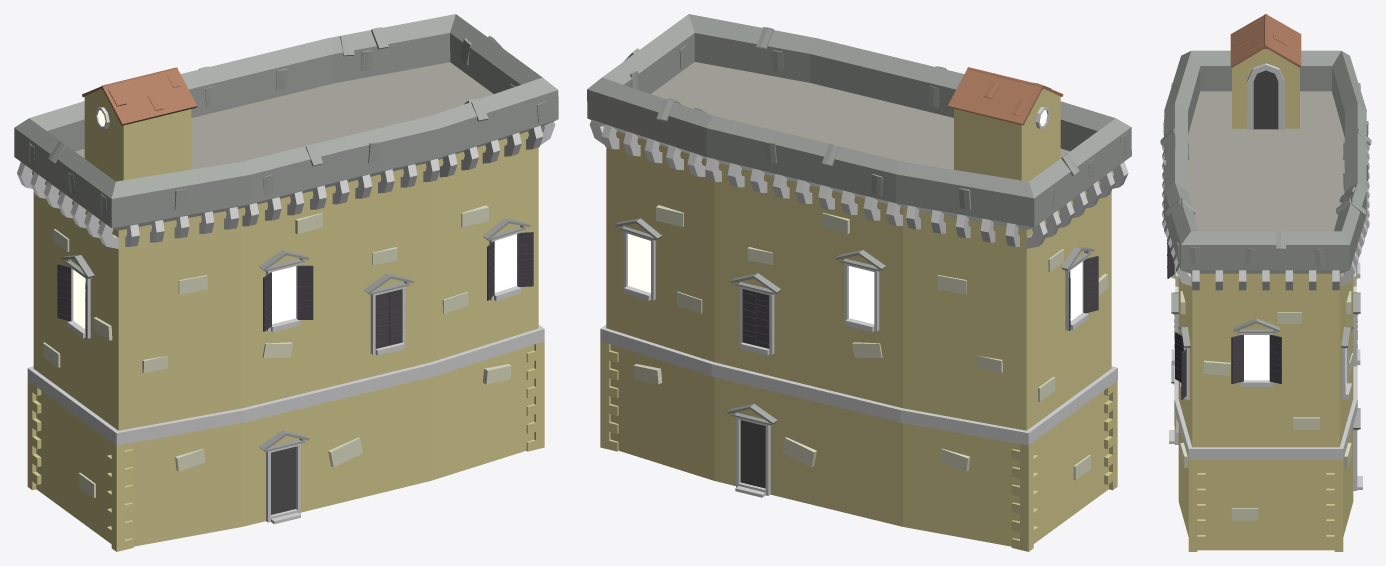
Rendered from Building2.fbx.
3 views of the same model, side by side, from view 1: azimuth 30°, elevation 25°; view 2: azimuth 150°, elevation 25°; view 3: azimuth 270°, elevation 25° (orthographic). The views are drawn at different scales.
Parts seen in each view (by area): view 1: Cube.014; view 2: Cube.014; view 3: Cube.014.
Part boxes in pixels (bbox=[...]): Cube.014: bbox=[14, 14, 558, 551]; Cube.014: bbox=[587, 14, 1131, 551]; Cube.014: bbox=[1160, 14, 1371, 551].
Size of the model in its own units: 1341 by 1204 by 623.
